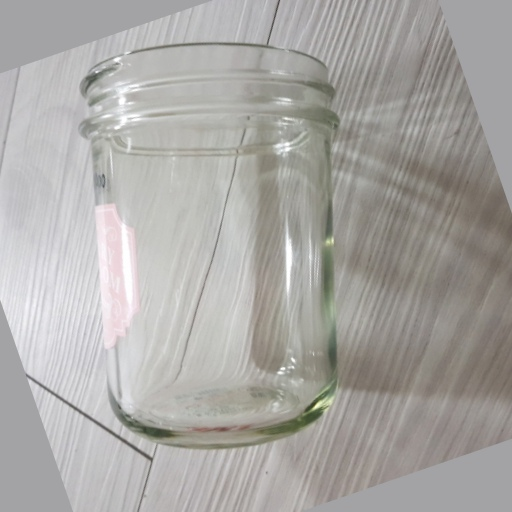Glass_5: (79, 41, 342, 446)
